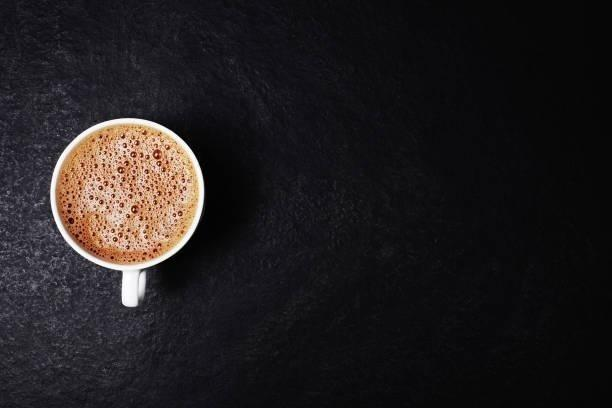cup-handle: (48, 115, 207, 309)
